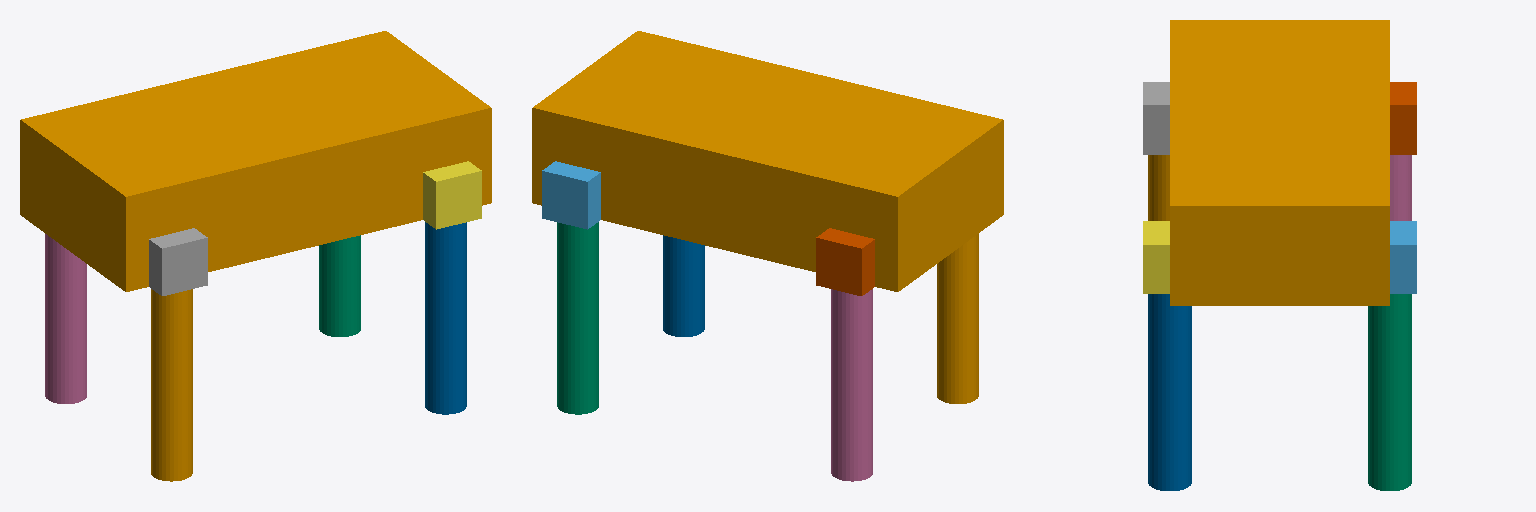
The robot description file, URDF, robot "simple_quadruped":
<?xml version="1.0" ?>
<robot name="simple_quadruped">

  <!-- Main Body -->
  <link name="body">
    <inertial>
      <mass value="5.0"/>
      <inertia ixx="0.1" iyy="0.1" izz="0.1"/>
      <origin xyz="0 0 0" />
    </inertial>
    <visual>
      <geometry><box size="0.4 0.2 0.1"/></geometry>
      <origin xyz="0 0 0" />
    </visual>
    <collision>
      <geometry><box size="0.4 0.2 0.1"/></geometry>
      <origin xyz="0 0 0"/>
    </collision>
  </link>

  <!-- === FRONT LEFT LEG === -->
  <link name="hip_fl">
    <inertial>
      <mass value="0.1"/>
      <inertia ixx="0.0001" iyy="0.0001" izz="0.0001"/>
      <origin xyz="0 0 0"/>
    </inertial>
    <visual>
      <geometry><box size="0.05 0.05 0.05"/></geometry>
    </visual>
    <collision>
      <geometry><box size="0.05 0.05 0.05"/></geometry>
    </collision>
  </link>

  <joint name="hip_joint_fl" type="fixed">
    <parent link="body"/>
    <child link="hip_fl"/>
    <origin xyz="0.15 0.1 -0.025"/>
  </joint>

  <link name="leg_fl">
    <inertial>
      <mass value="0.2"/>
      <inertia ixx="0.0002" iyy="0.0002" izz="0.0002"/>
      <origin xyz="0 0 -0.1"/>
    </inertial>
    <visual>
      <geometry><cylinder radius="0.02" length="0.2"/></geometry>
      <origin xyz="0 0 -0.1"/>
    </visual>
    <collision>
      <geometry><cylinder radius="0.02" length="0.2"/></geometry>
      <origin xyz="0 0 -0.1"/>
    </collision>
  </link>

  <joint name="knee_joint_fl" type="revolute">
    <parent link="hip_fl"/>
    <child link="leg_fl"/>
    <origin xyz="0 0 -0.025"/>
    <axis xyz="0 1 0"/>
    <limit effort="1" lower="-1.57" upper="1.57" velocity="1"/>
  </joint>

  <!-- === FRONT RIGHT LEG === -->
  <link name="hip_fr">
    <inertial>
      <mass value="0.1"/>
      <inertia ixx="0.0001" iyy="0.0001" izz="0.0001"/>
      <origin xyz="0 0 0"/>
    </inertial>
    <visual>
      <geometry><box size="0.05 0.05 0.05"/></geometry>
    </visual>
    <collision>
      <geometry><box size="0.05 0.05 0.05"/></geometry>
    </collision>
  </link>

  <joint name="hip_joint_fr" type="fixed">
    <parent link="body"/>
    <child link="hip_fr"/>
    <origin xyz="0.15 -0.1 -0.025"/>
  </joint>

  <link name="leg_fr">
    <inertial>
      <mass value="0.2"/>
      <inertia ixx="0.0002" iyy="0.0002" izz="0.0002"/>
      <origin xyz="0 0 -0.1"/>
    </inertial>
    <visual>
      <geometry><cylinder radius="0.02" length="0.2"/></geometry>
      <origin xyz="0 0 -0.1"/>
    </visual>
    <collision>
      <geometry><cylinder radius="0.02" length="0.2"/></geometry>
      <origin xyz="0 0 -0.1"/>
    </collision>
  </link>

  <joint name="knee_joint_fr" type="revolute">
    <parent link="hip_fr"/>
    <child link="leg_fr"/>
    <origin xyz="0 0 -0.025"/>
    <axis xyz="0 1 0"/>
    <limit effort="1" lower="-1.57" upper="1.57" velocity="1"/>
  </joint>

  <!-- === REAR LEFT LEG === -->
  <link name="hip_rl">
    <inertial>
      <mass value="0.1"/>
      <inertia ixx="0.0001" iyy="0.0001" izz="0.0001"/>
      <origin xyz="0 0 0"/>
    </inertial>
    <visual>
      <geometry><box size="0.05 0.05 0.05"/></geometry>
    </visual>
    <collision>
      <geometry><box size="0.05 0.05 0.05"/></geometry>
    </collision>
  </link>

  <joint name="hip_joint_rl" type="fixed">
    <parent link="body"/>
    <child link="hip_rl"/>
    <origin xyz="-0.15 0.1 -0.025"/>
  </joint>

  <link name="leg_rl">
    <inertial>
      <mass value="0.2"/>
      <inertia ixx="0.0002" iyy="0.0002" izz="0.0002"/>
      <origin xyz="2 0 -0.1"/>
    </inertial>
    <visual>
      <geometry><cylinder radius="0.02" length="0.2"/></geometry>
      <origin xyz="0 0 -0.1"/>
    </visual>
    <collision>
      <geometry><cylinder radius="0.02" length="0.2"/></geometry>
      <origin xyz="0 0 -0.1"/>
    </collision>
  </link>

  <joint name="knee_joint_rl" type="revolute">
    <parent link="hip_rl"/>
    <child link="leg_rl"/>
    <origin xyz="0 0 -0.025"/>
    <axis xyz="0 1 0"/>
    <limit effort="1" lower="-1.57" upper="1.57" velocity="1"/>
  </joint>

  <!-- === REAR RIGHT LEG === -->
  <link name="hip_rr">
    <inertial>
      <mass value="0.1"/>
      <inertia ixx="0.0001" iyy="0.0001" izz="0.0001"/>
      <origin xyz="0 0 0"/>
    </inertial>
    <visual>
      <geometry><box size="0.05 0.05 0.05"/></geometry>
    </visual>
    <collision>
      <geometry><box size="0.05 0.05 0.05"/></geometry>
    </collision>
  </link>

  <joint name="hip_joint_rr" type="fixed">
    <parent link="body"/>
    <child link="hip_rr"/>
    <origin xyz="-0.15 -0.1 -0.025"/>
  </joint>

  <link name="leg_rr">
    <inertial>
      <mass value="0.2"/>
      <inertia ixx="0.0002" iyy="0.0002" izz="0.0002"/>
      <origin xyz="0 0 -0.1"/>
    </inertial>
    <visual>
      <geometry><cylinder radius="0.02" length="0.2"/></geometry>
      <origin xyz="0 0 -0.1"/>
    </visual>
    <collision>
      <geometry><cylinder radius="0.02" length="0.2"/></geometry>
      <origin xyz="0 0 -0.1"/>
    </collision>
  </link>

  <joint name="knee_joint_rr" type="revolute">
    <parent link="hip_rr"/>
    <child link="leg_rr"/>
    <origin xyz="0 0 -0.025"/>
    <axis xyz="0 1 0"/>
    <limit effort="1" lower="-1.57" upper="1.57" velocity="1"/>
  </joint>

</robot>

--- What the picture shows (computed from the rendered views, not written in the file) ---
3 views of the same robot in one strip: view 1: azimuth 30°, elevation 25°; view 2: azimuth 150°, elevation 25°; view 3: azimuth 270°, elevation 25° (orthographic).
Model simple_quadruped with 9 links and 8 joints (4 revolute, 4 fixed), rooted at body, posed all joints at 0.
Visible links, largest first — view 1: body, leg_fr, leg_rr, leg_rl, leg_fl, hip_fr, hip_rr; view 2: body, leg_fl, leg_rl, leg_rr, leg_fr, hip_fl, hip_rl; view 3: body, leg_fl, leg_fr, hip_fl, hip_fr, hip_rl, hip_rr, leg_rl, leg_rr.
Boxes of the visible links, x1,y1,x2,y2 form: body: (20, 31, 491, 291); leg_fr: (425, 222, 466, 414); leg_rr: (151, 289, 192, 481); leg_rl: (45, 234, 86, 403); leg_fl: (319, 235, 360, 336); hip_fr: (423, 161, 481, 229); hip_rr: (149, 228, 207, 295); body: (532, 31, 1003, 291); leg_fl: (557, 222, 598, 414); leg_rl: (831, 289, 872, 481); leg_rr: (937, 234, 978, 403); leg_fr: (663, 235, 704, 336); hip_fl: (542, 161, 600, 229); hip_rl: (816, 228, 874, 295); body: (1170, 20, 1389, 305); leg_fl: (1368, 294, 1411, 490); leg_fr: (1148, 294, 1191, 490); hip_fl: (1390, 221, 1416, 293); hip_fr: (1143, 221, 1169, 293); hip_rl: (1390, 82, 1416, 154); hip_rr: (1143, 82, 1169, 154); leg_rl: (1390, 155, 1411, 220); leg_rr: (1148, 155, 1169, 220).
Bounding box of the posed robot: 0.4 × 0.25 × 0.3 m (x, y, z).
Geometry: primitives only (box / cylinder / sphere), no mesh files.